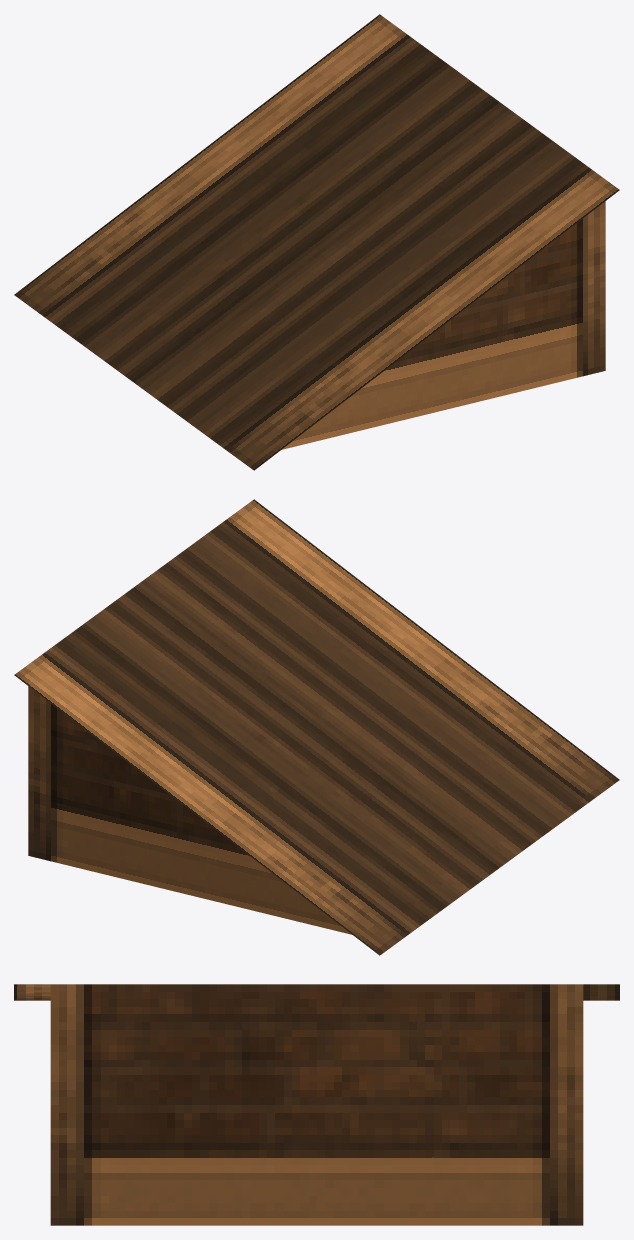
3 renders of one model, top to bottom at view 1: azimuth 30°, elevation 25°; view 2: azimuth 150°, elevation 25°; view 3: azimuth 270°, elevation 25°, orthographic. The views are drawn at different scales.
Parts seen in each view (by area): view 1: wall-a-roof-slant-detailed; view 2: wall-a-roof-slant-detailed; view 3: wall-a-roof-slant-detailed.
Part boxes in pixels (x1,y1,x2,y2): wall-a-roof-slant-detailed: [14, 14, 619, 470]; wall-a-roof-slant-detailed: [14, 499, 619, 955]; wall-a-roof-slant-detailed: [14, 984, 619, 1225].
Bounding box in the file's own units: 1 × 0.5 × 1.14.
Materials: 3 (3 with a texture image).
